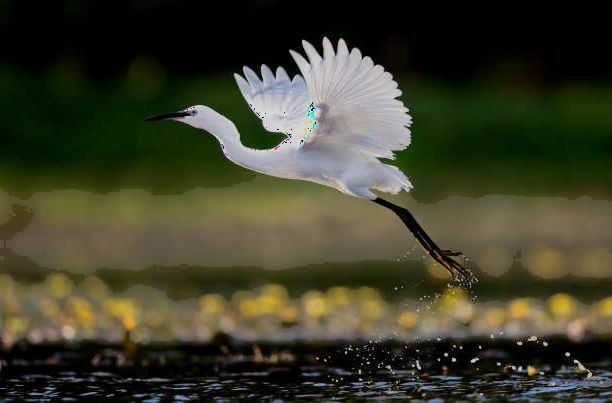Bird: (139, 33, 475, 288)
